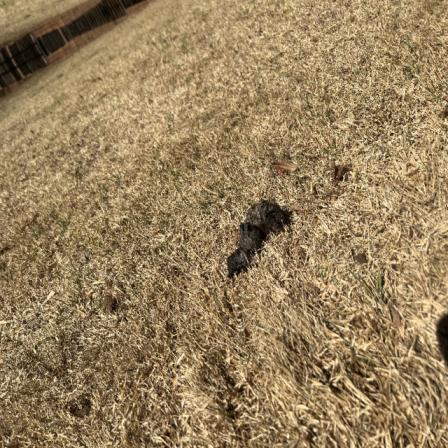dog-poop: (216, 187, 296, 280)
